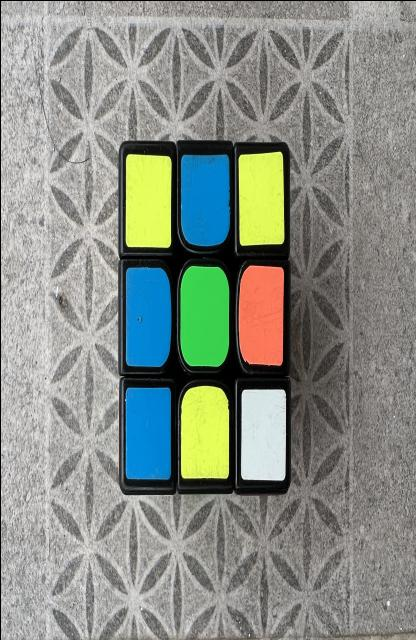Blue: (125, 267, 171, 367), (180, 153, 229, 245), (124, 387, 170, 478)
Green: (180, 265, 228, 367)
Orange: (237, 265, 283, 365)
White: (240, 388, 285, 480)
Yellow: (237, 150, 284, 245), (180, 385, 228, 478), (124, 153, 171, 247)
